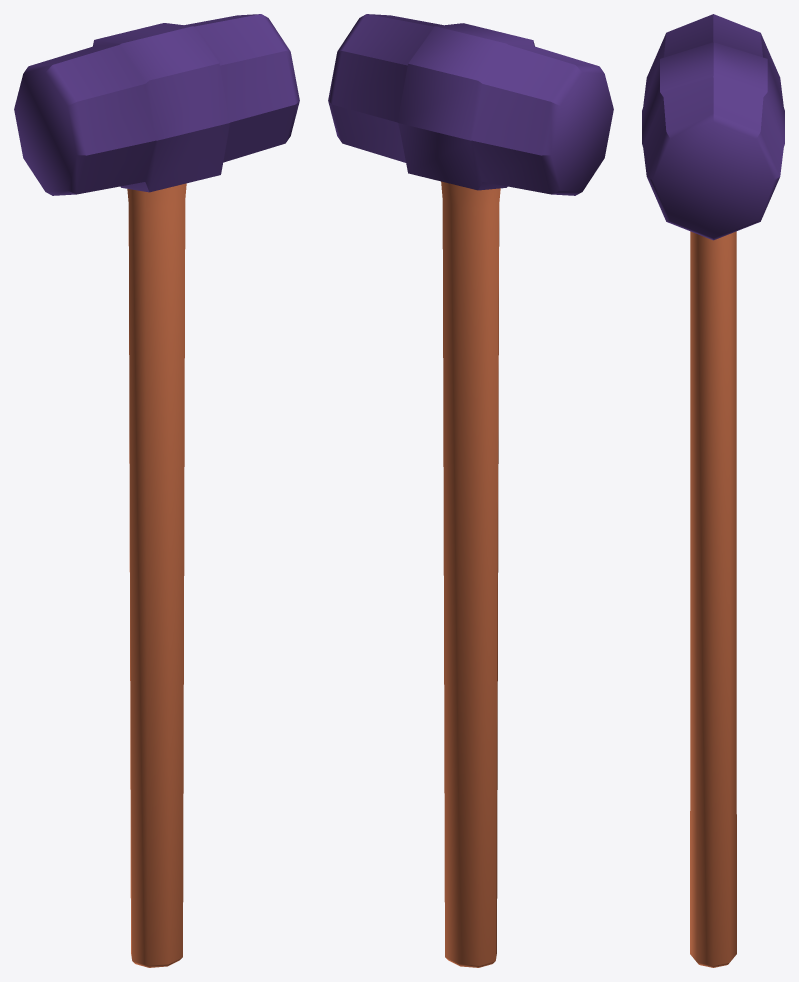
Rendered from Cryonite_Hammer.fbx.
3 renders of one model, left to right at view 1: azimuth 30°, elevation 25°; view 2: azimuth 150°, elevation 25°; view 3: azimuth 270°, elevation 25°, orthographic. The views are drawn at different scales.
Visible parts, largest first — view 1: Cryonite_Hammer; view 2: Cryonite_Hammer; view 3: Cryonite_Hammer.
Part boxes in pixels (<box>): Cryonite_Hammer: <box>14,14,299,967</box>; Cryonite_Hammer: <box>328,14,613,967</box>; Cryonite_Hammer: <box>642,14,784,967</box>.
Bounding box in the file's own units: 0.1262 × 0.4984 × 0.0716.
